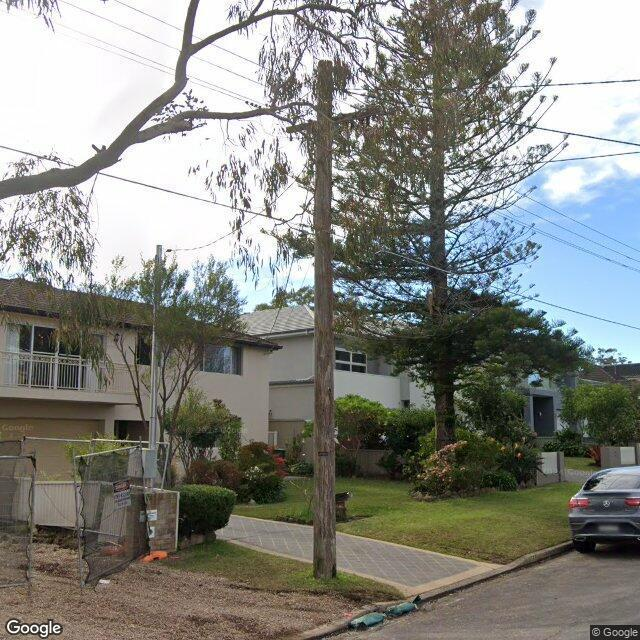crossarm: (286, 106, 384, 134)
steel-pole: (142, 244, 162, 491)
timber-pole: (311, 58, 338, 584)
